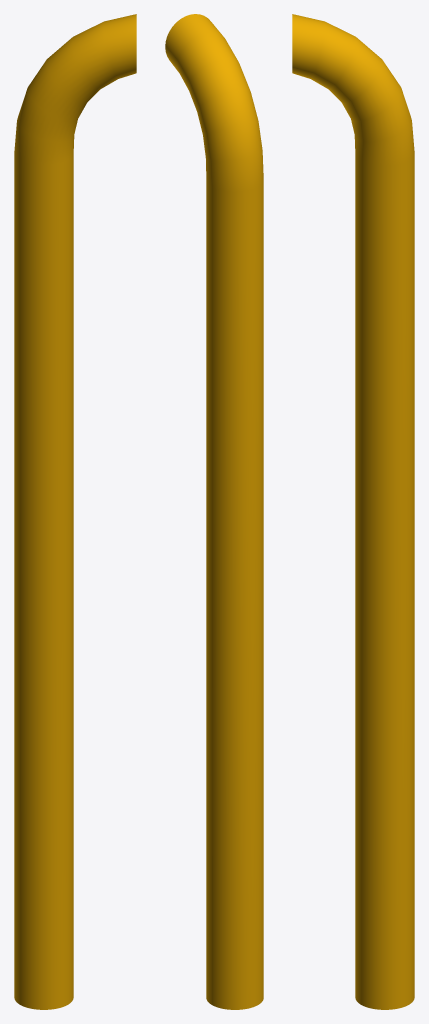
The model's file is Railing_End.fbx.
3 renders of one model, left to right at view 1: azimuth 90°, elevation 25°; view 2: azimuth 210°, elevation 25°; view 3: azimuth 270°, elevation 25°, orthographic. The views are drawn at different scales.
Parts seen in each view (by area): view 1: Cylinder; view 2: Cylinder; view 3: Cylinder.
Part boxes in pixels (box(x1,y1,x2,y2)): Cylinder: box(14, 14, 136, 1009); Cylinder: box(165, 14, 263, 1009); Cylinder: box(292, 14, 414, 1009).
Bounding box in the file's own units: 4.22 × 76.97 × 8.71.
